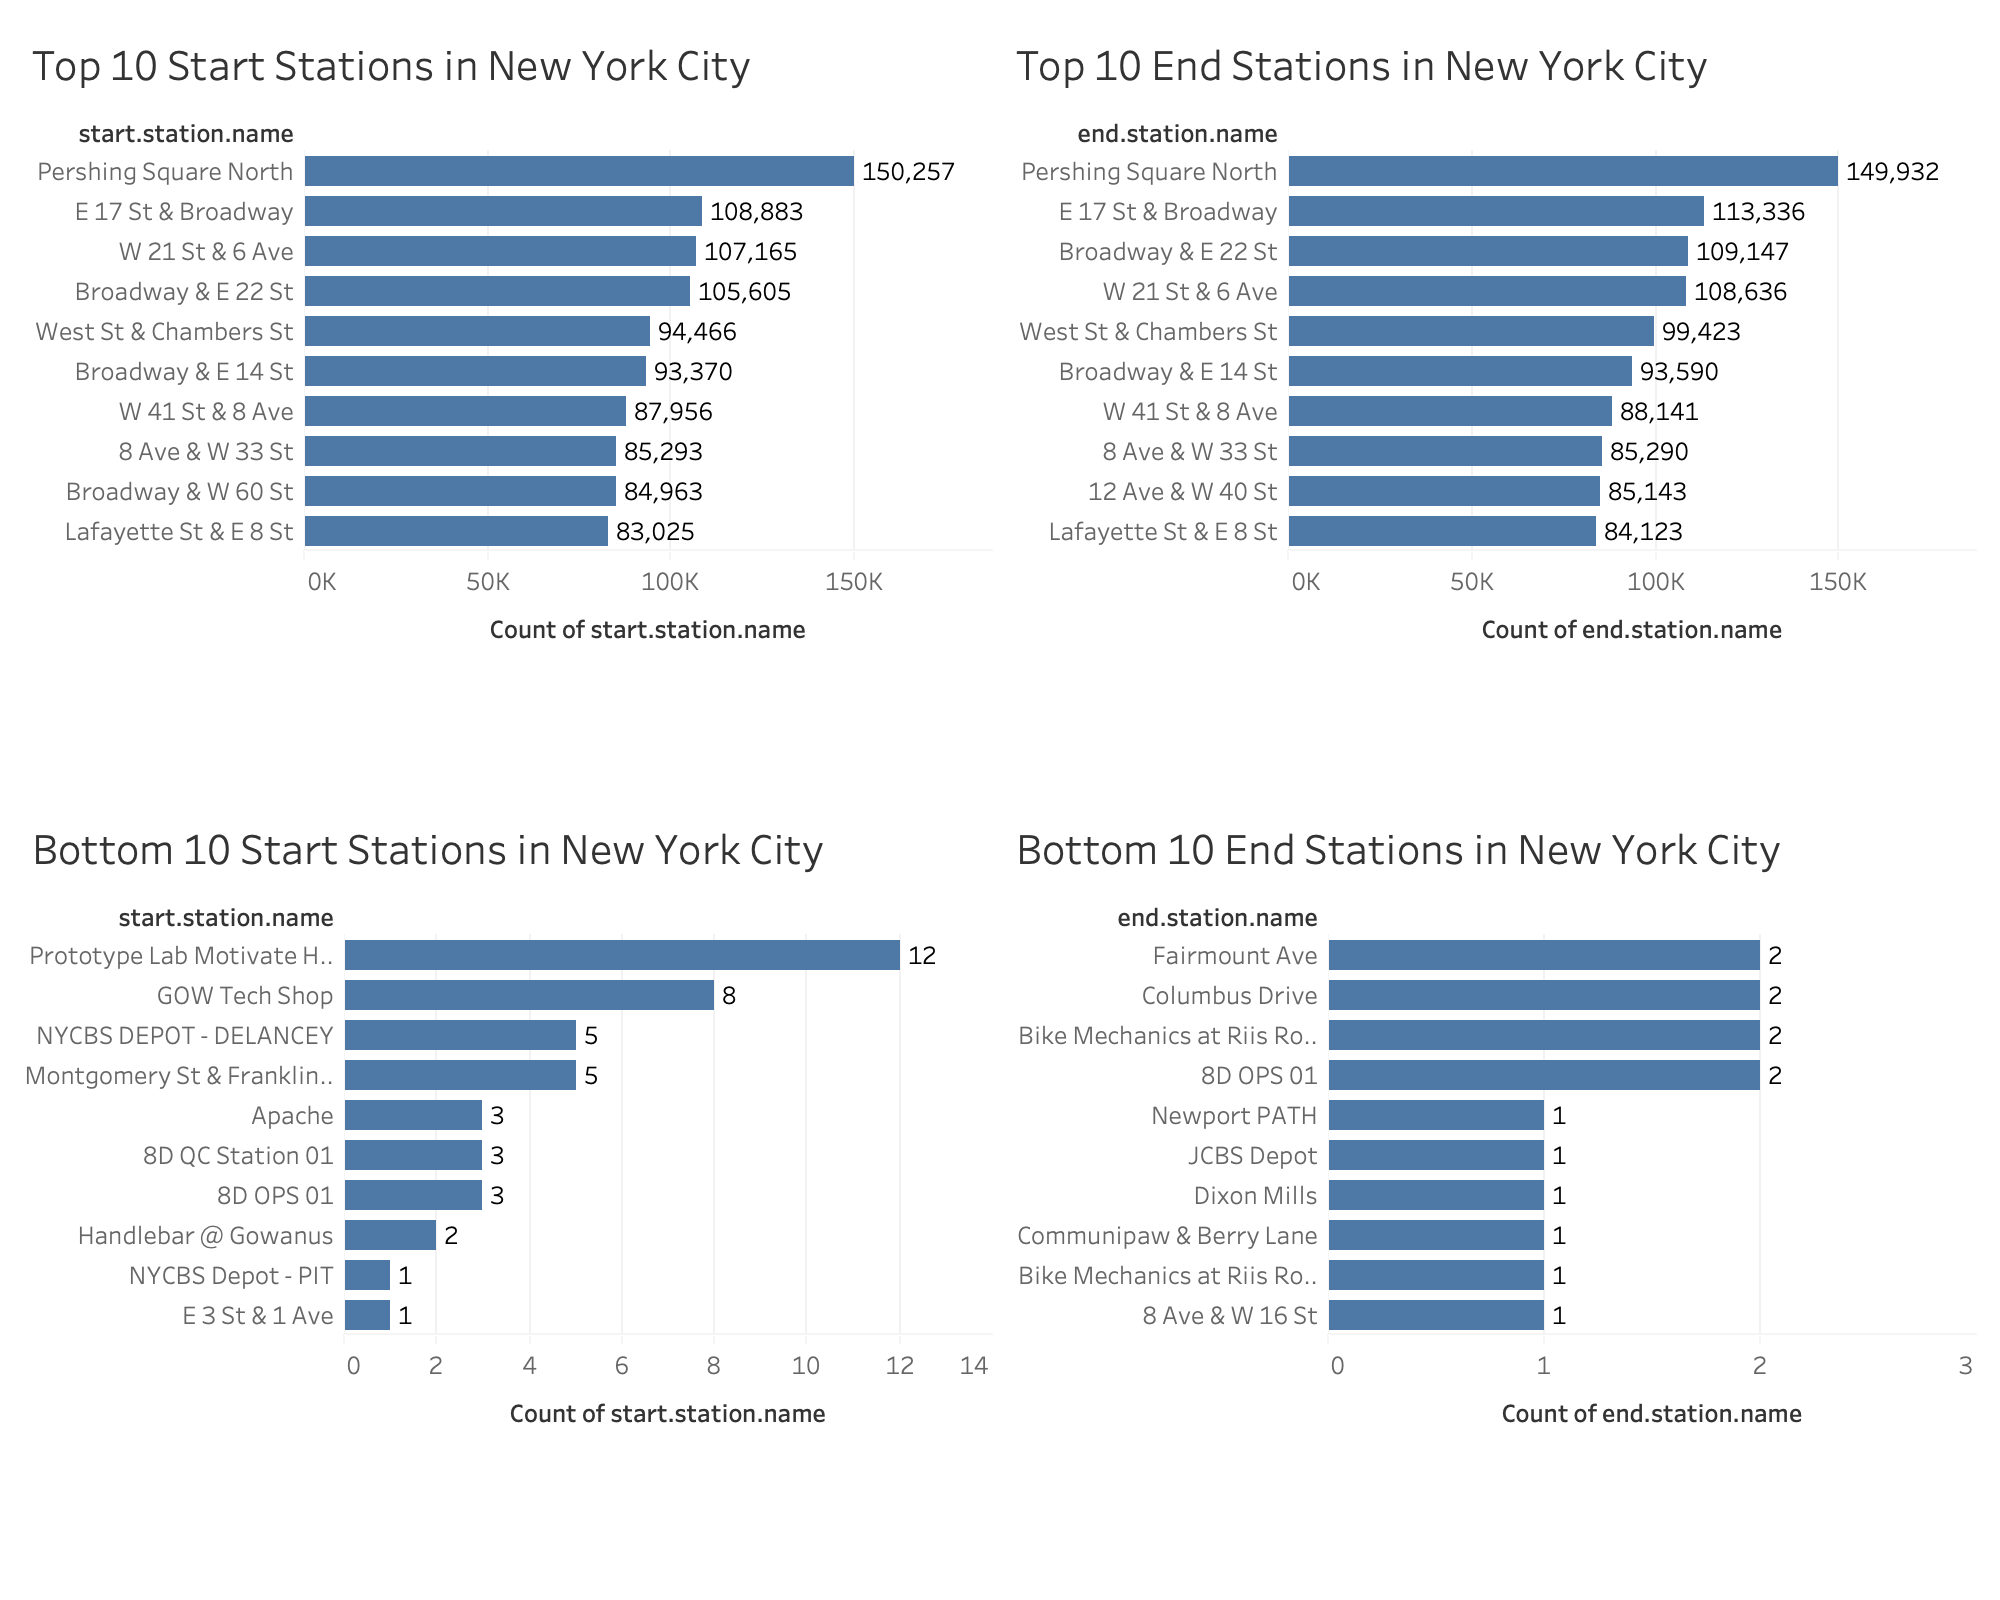

Layout of this report page (visuals, bound fields, positions):
{"tool":"tableau","page":{"name":"仪表板 1","canvas":[1000,800],"ordinal":0},"visuals":[{"type":"worksheet","title":"工作表 4","mark":"Automatic","rows":["start.station.name"],"cols":["start.station.name"],"box":[8,8,492,392]},{"type":"worksheet","title":"工作表 5","mark":"Automatic","rows":["end.station.name"],"cols":["end.station.name"],"box":[500,8,492,392]},{"type":"worksheet","title":"工作表 6","mark":"Automatic","rows":["start.station.name"],"cols":["start.station.name"],"box":[8,400,492,392]},{"type":"worksheet","title":"工作表 7","mark":"Bar","rows":["end.station.name"],"cols":["end.station.name"],"box":[500,400,492,392]}]}

Visuals, with their boxes in screenshot pixels (x1, y1, x2, y2), scaled from the page's 1000x800 canvas onto the 2000x1600 screenshot:
"工作表 4" worksheet: (16, 16, 1000, 800)
"工作表 5" worksheet: (1000, 16, 1984, 800)
"工作表 6" worksheet: (16, 800, 1000, 1584)
"工作表 7" worksheet (Bar marks): (1000, 800, 1984, 1584)
